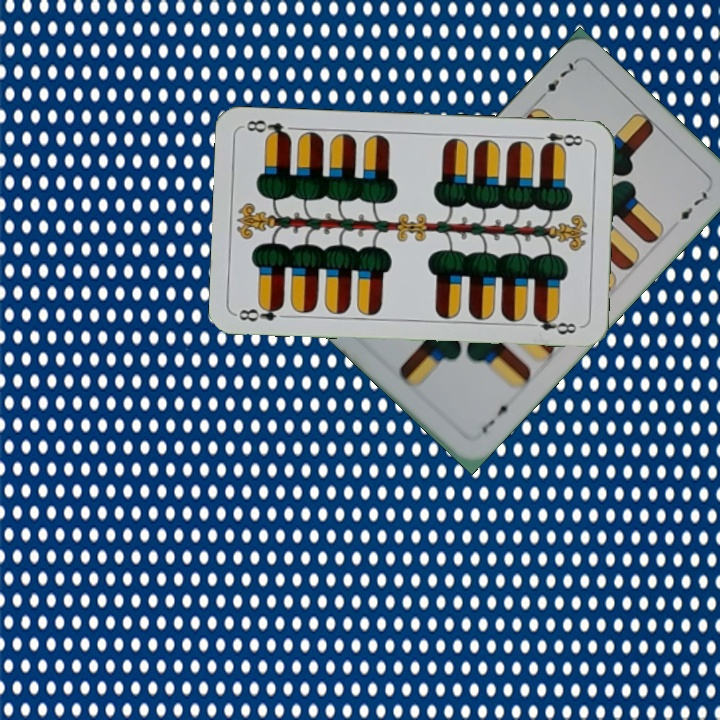E7: (477, 397, 516, 436), (543, 57, 581, 95)
E8: (530, 129, 589, 152), (233, 300, 287, 325)
